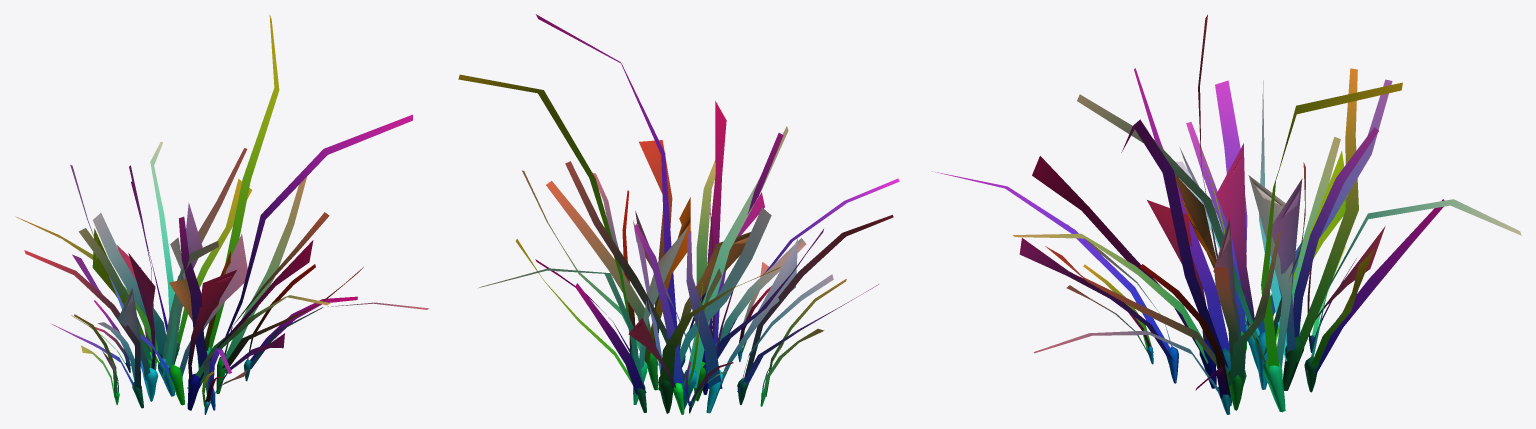
Rendered from Ribbon_Grass_tbdpec3r_Low_tbdpec3r_VarD_LOD1.fbx.
3 renders of one model, left to right at view 1: azimuth 30°, elevation 25°; view 2: azimuth 150°, elevation 25°; view 3: azimuth 270°, elevation 25°, orthographic. The views are drawn at different scales.
Parts seen in each view (by area): view 1: _a9b0_VarD_LOD2; view 2: _a9b0_VarD_LOD2; view 3: _a9b0_VarD_LOD2.
Part boxes in pixels (x1,y1,x2,y2): _a9b0_VarD_LOD2: (15, 15, 428, 414); _a9b0_VarD_LOD2: (458, 14, 899, 414); _a9b0_VarD_LOD2: (932, 14, 1521, 414).
Size of the model in its own units: 43.61 by 35.89 by 47.85.
